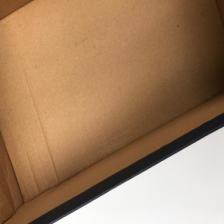cardboard: (0, 1, 224, 213)
